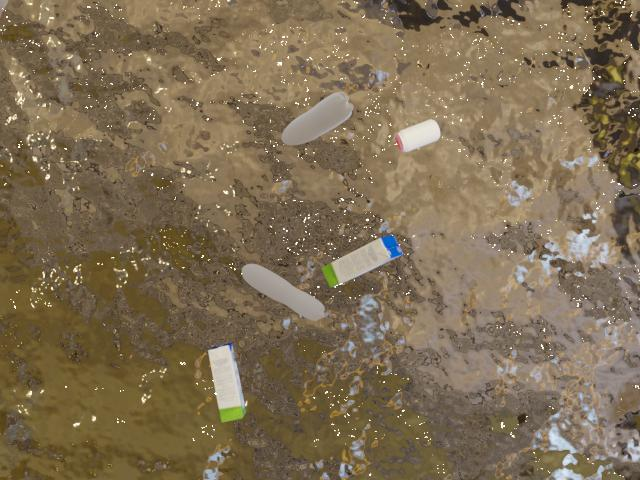Metal: (389, 98, 450, 177)
Plastic: (228, 246, 336, 338), (279, 74, 351, 159)
Trash: (310, 224, 418, 291), (193, 341, 269, 425)
